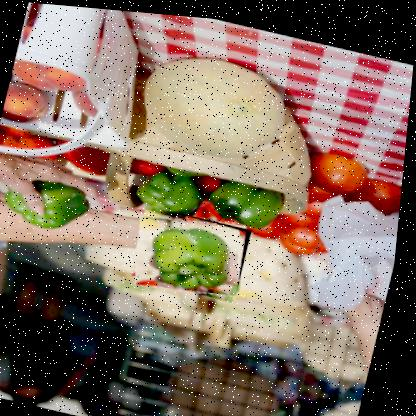capsicum: (131, 200, 257, 298)
